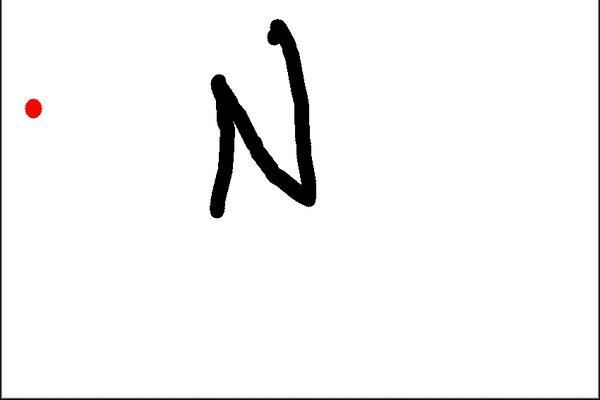N: (198, 15, 323, 220)
